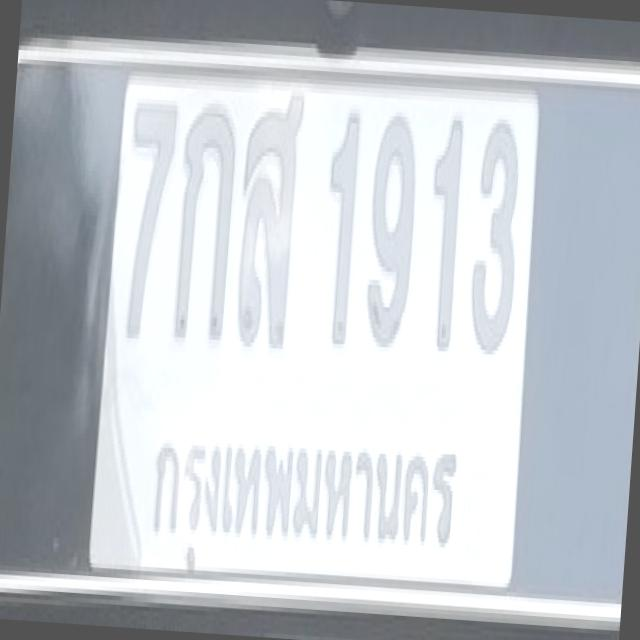license_plate: (0, 24, 640, 629)
